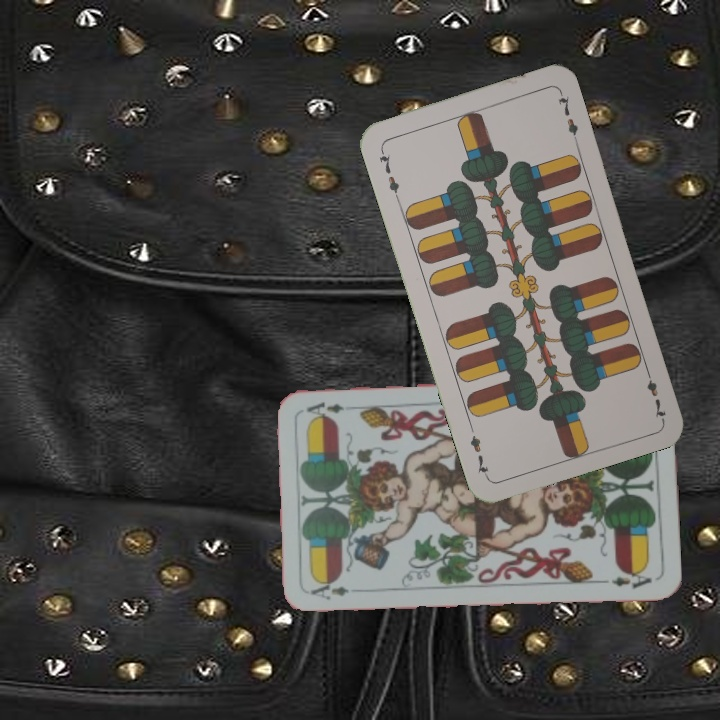E7: (641, 364, 669, 422), (375, 144, 402, 202)
EA: (307, 576, 352, 603)
